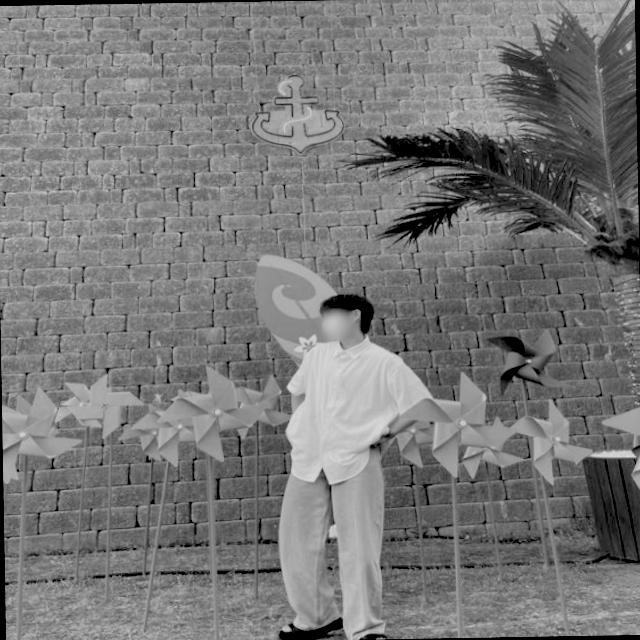denimpants: (276, 444, 391, 640)
shirt: (285, 333, 433, 484)
